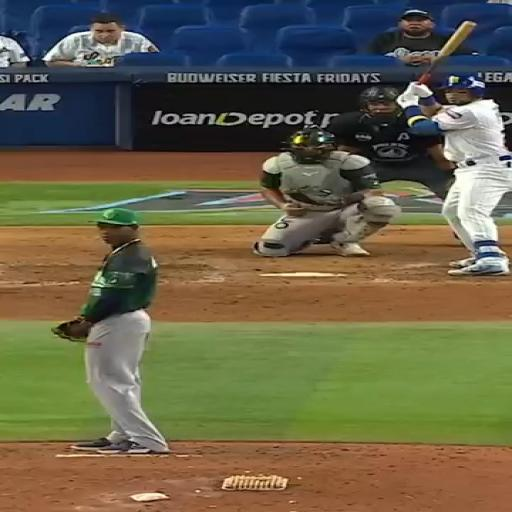bat: (417, 21, 476, 83)
